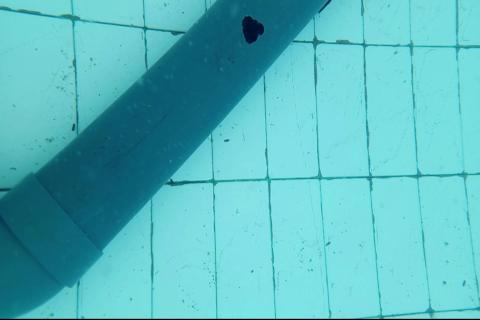kebocoran: (240, 15, 266, 46)
